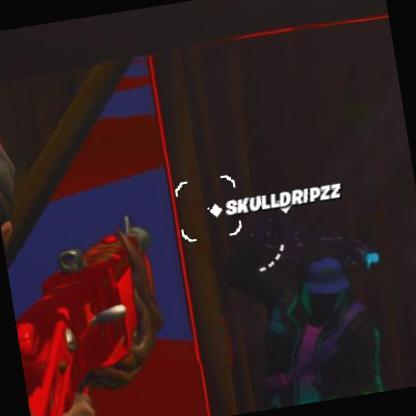person: (252, 228, 404, 408)
